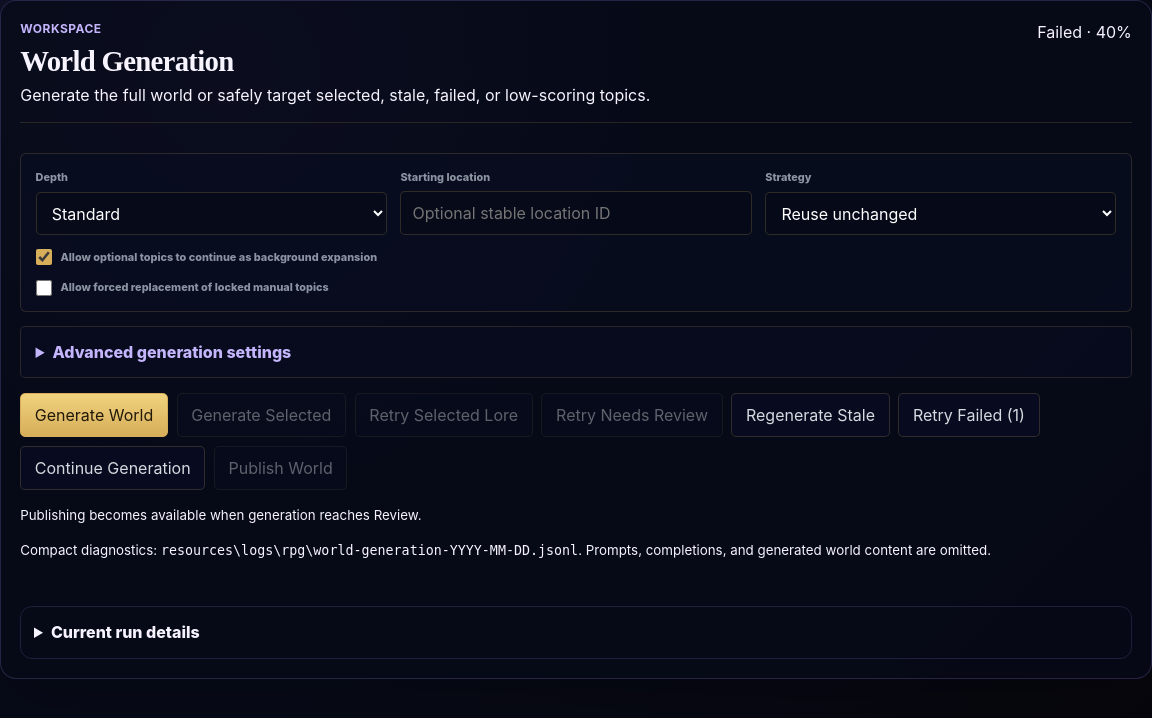
RpgWorldGenerationPanel failed-topic retry guards › continues a failed run from remaining topics with its durable settings
The width and height of the screenshot is (1152, 718).
What coordinates should you click on to do the following:
click the button "Continue Generation"
I would click on:
 (113, 468)
Its box is [20,446,205,490].
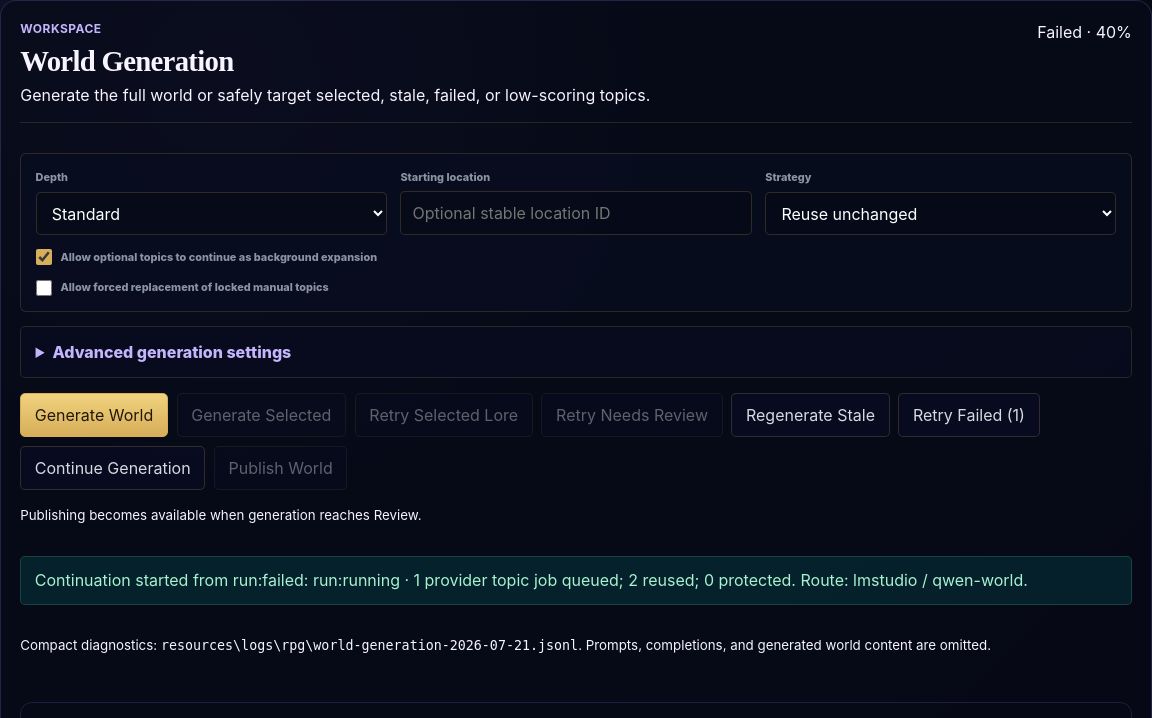
Now the text "Continuation started from run:failed" is shown, box [35,570,1028,590]
